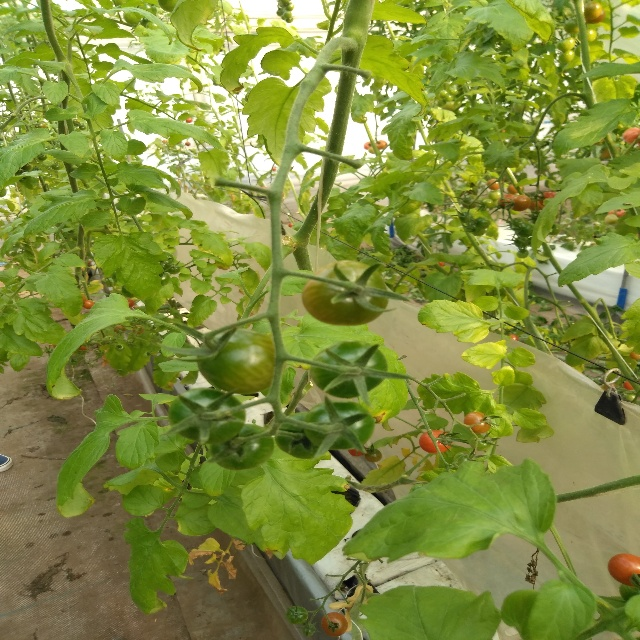l_fully_ripened: (419, 429, 452, 453), (349, 445, 366, 456)
l_green: (197, 329, 285, 396), (310, 340, 387, 398), (169, 388, 246, 444), (303, 400, 375, 450), (210, 423, 274, 471), (275, 411, 328, 459), (286, 606, 308, 625), (469, 434, 492, 451), (453, 452, 477, 467), (301, 624, 316, 636)
l_half_ripened: (301, 260, 389, 326), (607, 553, 639, 587), (321, 611, 348, 636), (463, 411, 492, 433), (364, 448, 382, 462)
